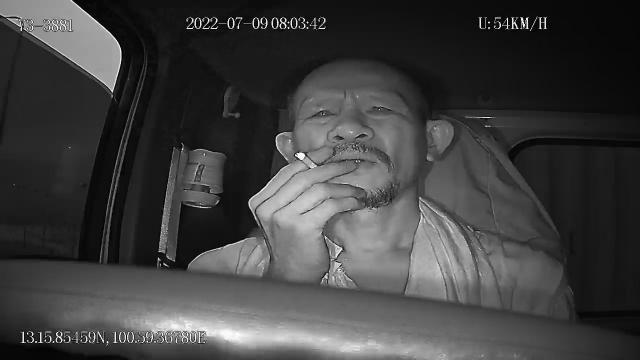SafeDriving: (359, 94, 402, 121), (301, 100, 342, 127)
Smoking: (293, 150, 319, 170)
